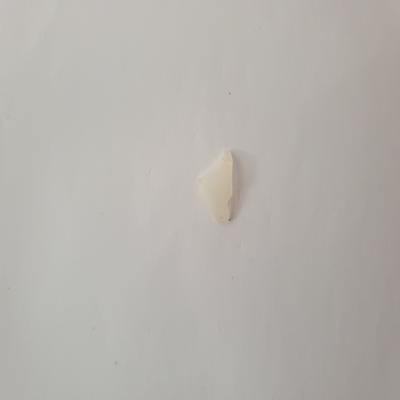plastic: (191, 145, 240, 225)
